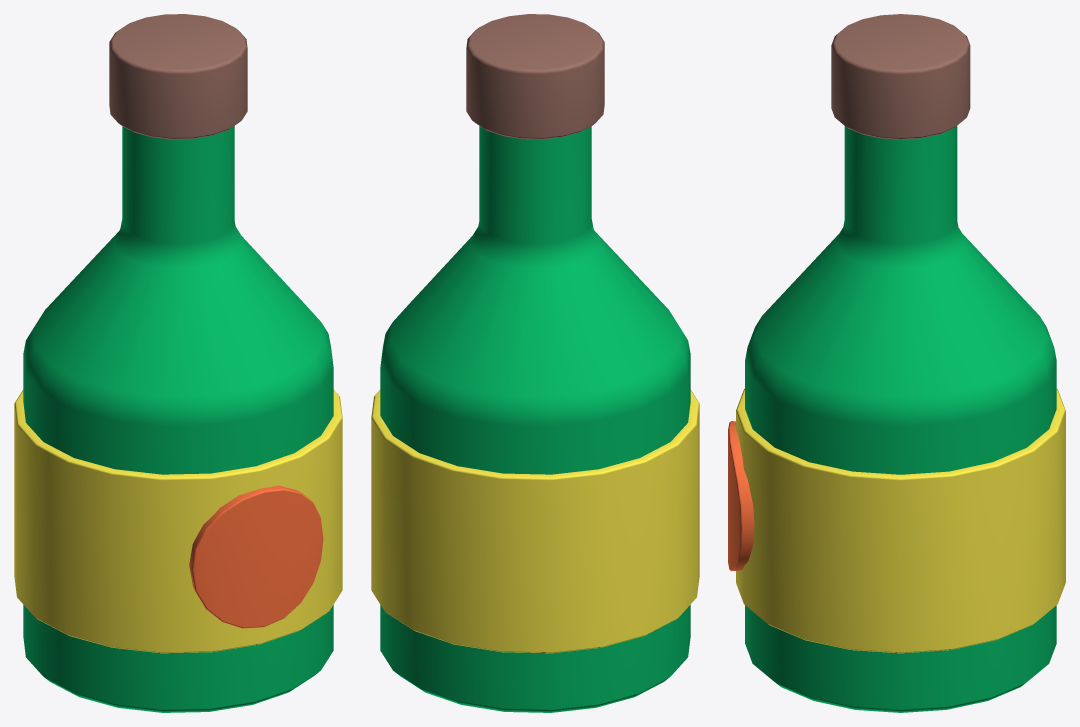
File: Store_16_Bottle_1.glb
The picture shows the model from 3 angles, left to right: view 1: azimuth 30°, elevation 25°; view 2: azimuth 150°, elevation 25°; view 3: azimuth 270°, elevation 25°; orthographic projection.
Visible parts, largest first — view 1: Store_16_Bottle_1; view 2: Store_16_Bottle_1; view 3: Store_16_Bottle_1.
Part boxes in pixels (x1,y1,x2,y2): Store_16_Bottle_1: (14,14,342,712); Store_16_Bottle_1: (371,14,699,712); Store_16_Bottle_1: (728,14,1065,712).
Bounding box in the file's own units: 0.2056 × 0.4183 × 0.2104.
1 material, 1 textured.
